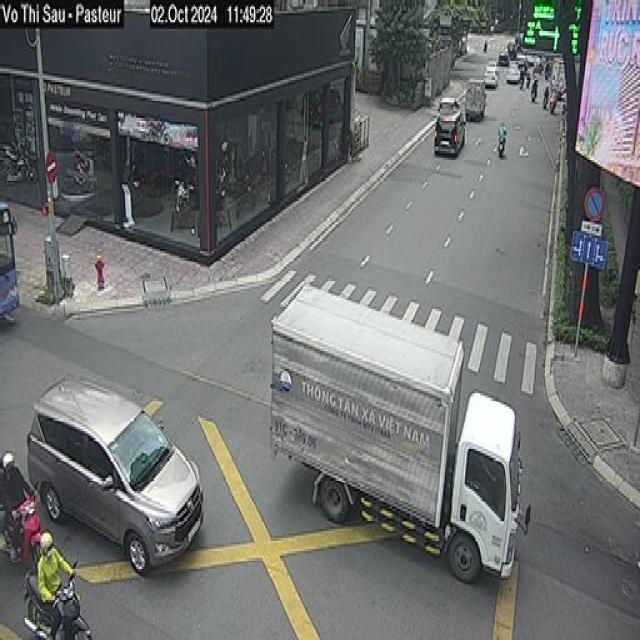car: (25, 371, 204, 576)
motorcycle: (22, 558, 92, 638)
person: (36, 529, 76, 638), (94, 253, 105, 289), (498, 120, 507, 156)
truck: (266, 274, 532, 584)
